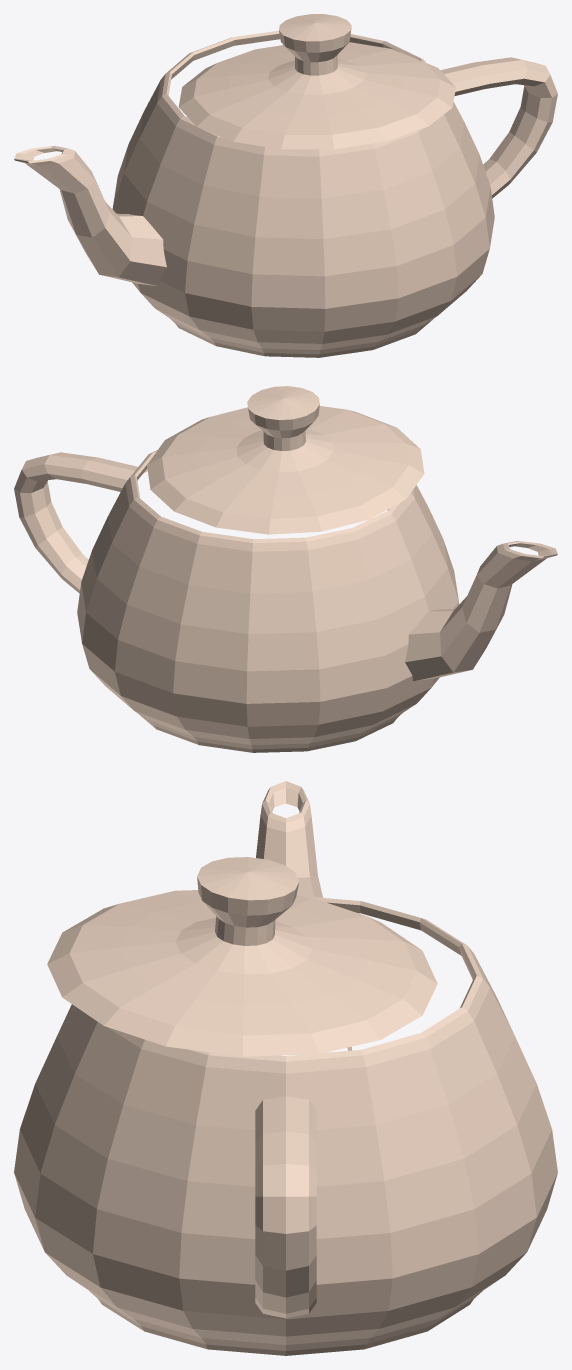
The model's file is Teapot.glb.
The picture shows the model from 3 angles, top to bottom: view 1: azimuth 30°, elevation 25°; view 2: azimuth 150°, elevation 25°; view 3: azimuth 270°, elevation 25°; orthographic projection. The views are drawn at different scales.
Visible parts, largest first — view 1: Teapot002; view 2: Teapot002; view 3: Teapot002.
Boxes of the visible parts, x1=… form: Teapot002: x1=14, y1=14, x2=557, y2=357; Teapot002: x1=14, y1=386, x2=557, y2=752; Teapot002: x1=14, y1=781, x2=557, y2=1355.
Size of the model in its own units: 132114 by 68600 by 82210.
